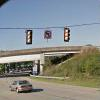Traffic light: (21, 27, 76, 43)
